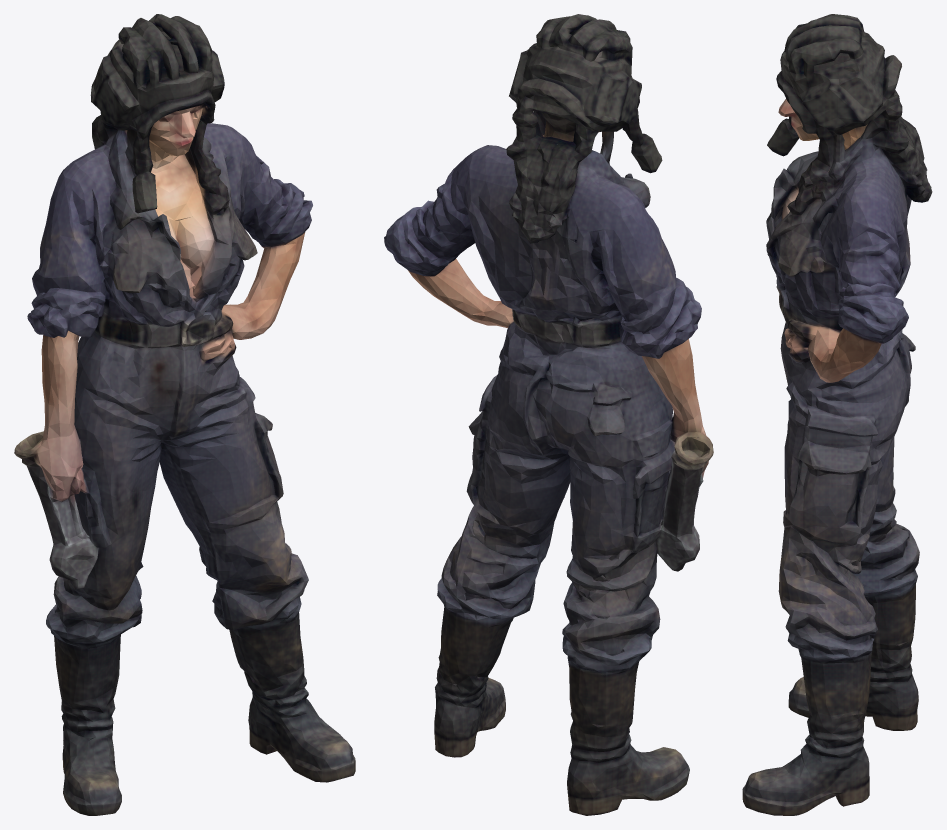
File: crew_su_driver_4.obj
3 renders of one model, left to right at view 1: azimuth 30°, elevation 25°; view 2: azimuth 150°, elevation 25°; view 3: azimuth 270°, elevation 25°, orthographic. The views are drawn at different scales.
Visible parts, largest first — view 1: crew_su_driver_4; view 2: crew_su_driver_4; view 3: crew_su_driver_4.
Boxes of the visible parts, left/top/right/bottom form: crew_su_driver_4: left=14, top=14, right=355, bottom=815; crew_su_driver_4: left=384, top=14, right=713, bottom=815; crew_su_driver_4: left=742, top=14, right=932, bottom=815.
Bounding box in the file's own units: 0.7156 × 1.68 × 0.3999.
1 material, 1 textured.
